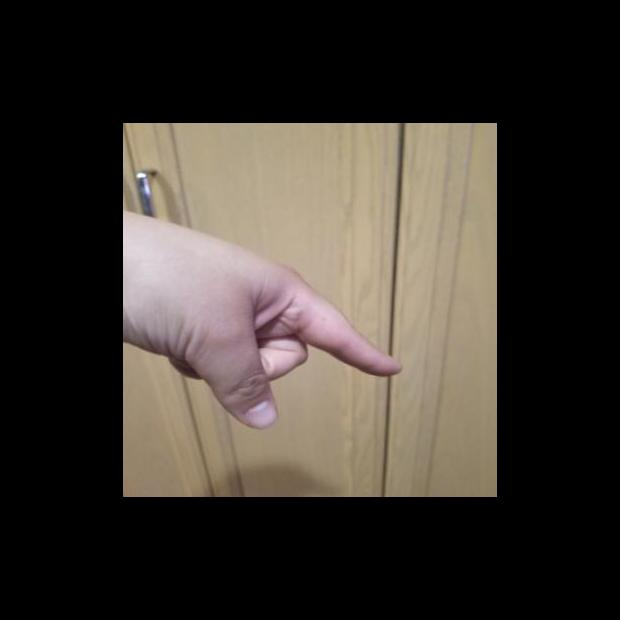P: (123, 204, 419, 442)
